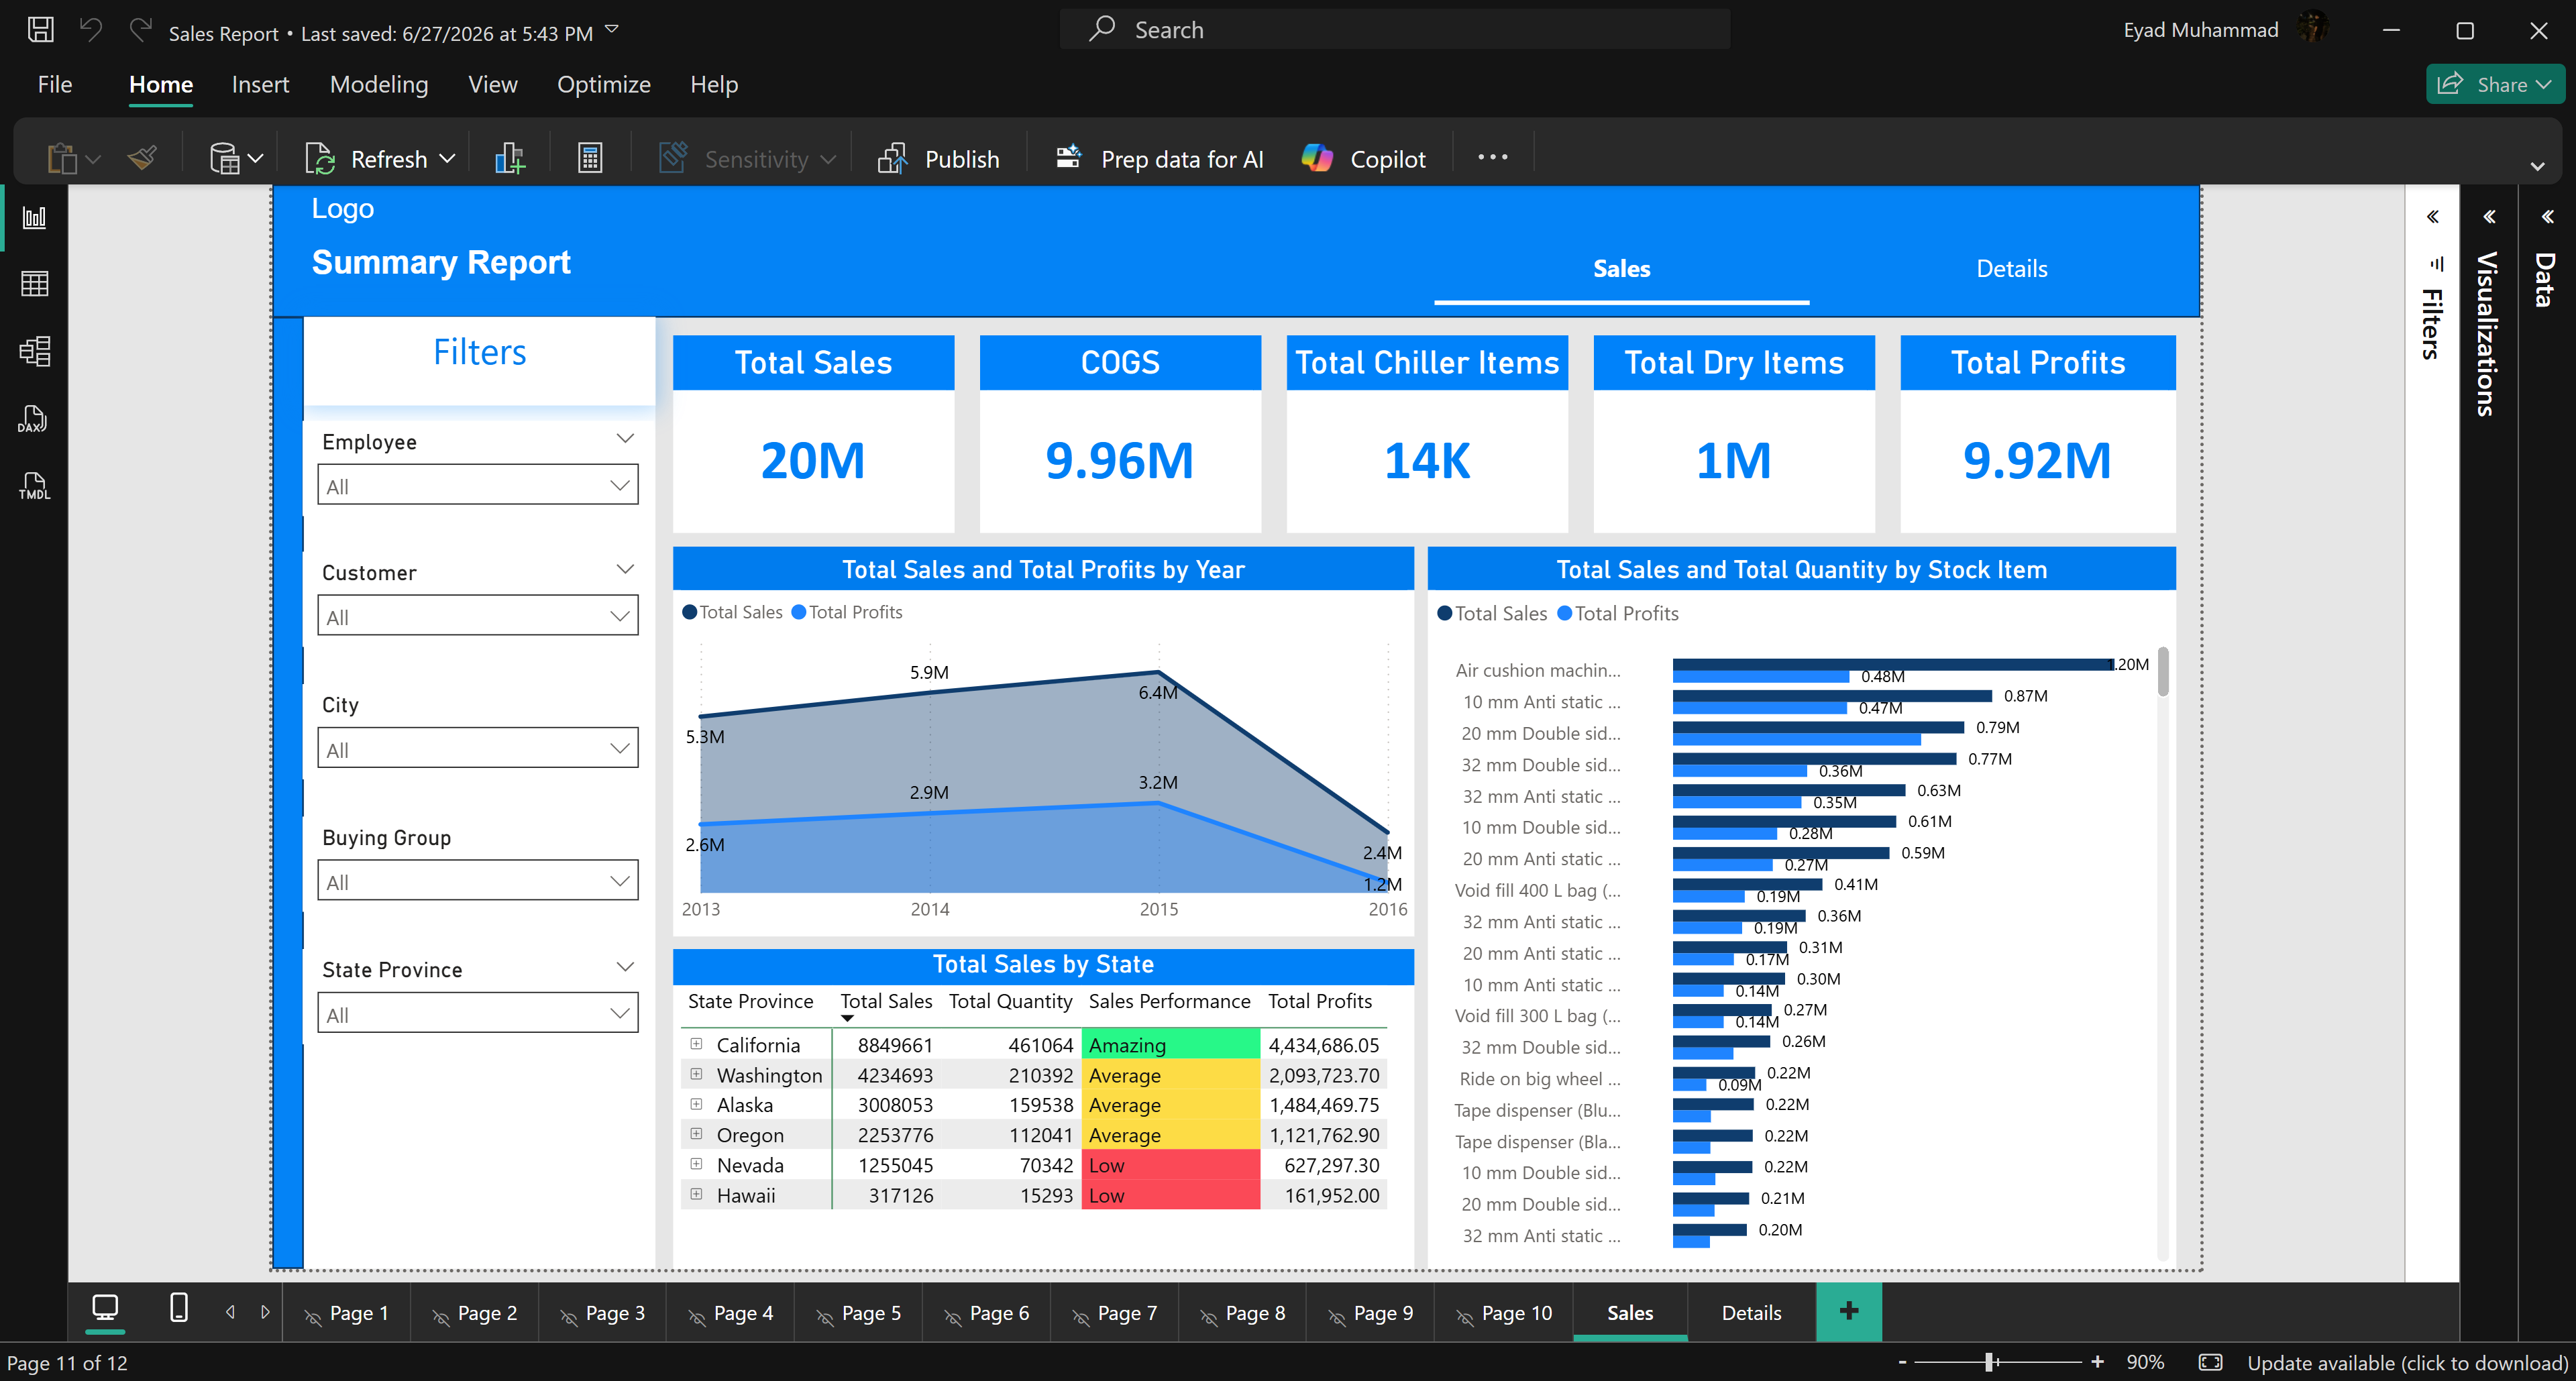

What the dashboard file says about the page in this screenshot:
{"tool":"powerbi","page":{"name":"Sales","canvas":[1280,720],"ordinal":10},"visuals":[{"type":"shape","box":[0,0,1279.8,88.3],"z":0},{"type":"shape","box":[0,88.3,20.9,631.9],"z":1000},{"type":"shape","box":[20.9,88.3,233.1,631.9],"z":2000},{"type":"textbox","box":[20.9,34.4,326.4,42.9],"z":3000},{"type":"textbox","box":[20.9,0,282.2,34.4],"z":4000},{"type":"cardVisual","title":"Total Sales","fields":{"Data":["FactSale.Total Sales"]},"box":[266.3,100.6,186.6,131.3],"z":5000},{"type":"cardVisual","title":"COGS","fields":{"Data":["Sum(FactSale.COGS)"]},"box":[469.9,100.6,186.6,131.3],"z":6000},{"type":"cardVisual","title":"Total Chiller Items","fields":{"Data":["Sum(FactSale.Total Chiller Items)"]},"box":[673.6,100.6,186.6,131.3],"z":7000},{"type":"cardVisual","title":"Total Dry Items","fields":{"Data":["Sum(FactSale.Total Dry Items)"]},"box":[877.3,100.6,186.6,131.3],"z":8000},{"type":"textbox","title":"csdc","box":[20.9,88.3,233.1,58.9],"z":9000},{"type":"areaChart","fields":{"Y":["FactSale.Total Sales","FactSale.Total Profits"],"Category":["DimDate.Date.Variation.Date Hierarchy.Year","DimDate.Date.Variation.Date Hierarchy.Quarter","DimDate.Date.Variation.Date Hierarchy.Month","DimDate.Date.Variation.Date Hierarchy.Day"]},"box":[266.3,240.5,492,258.9],"z":10000},{"type":"clusteredBarChart","title":"Total Sales and Total  Quantity by Stock Item","fields":{"Category":["DimStockItem.Stock Item"],"Y":["FactSale.Total Sales","FactSale.Total Profits"]},"box":[766.9,240.5,496.9,479.8],"z":11000},{"type":"pivotTable","title":"Total Sales by State","fields":{"Rows":["DimCity.State Province Hierarchy.State Province","DimCity.State Province Hierarchy.City"],"Values":["FactSale.Total Sales","Sum(FactSale.Quantity)","FactSale.Sales Performance","FactSale.Total Profits"]},"box":[266.3,508,492,212.3],"z":12000},{"type":"slicer","fields":{"Values":["DimEmployee.Employee"]},"box":[20.6,156.4,233.3,63.1],"z":13000},{"type":"slicer","fields":{"Values":["DimCustomer.Customer"]},"box":[20.6,244.3,233.3,63.1],"z":14000},{"type":"slicer","fields":{"Values":["DimCity.City"]},"box":[20.6,332.1,233.3,63.1],"z":15000},{"type":"slicer","fields":{"Values":["DimCustomer.Buying Group"]},"box":[20.6,419.9,233.3,63.1],"z":16000},{"type":"slicer","fields":{"Values":["DimCity.State Province"]},"box":[20.6,507.7,233.3,63.1],"z":17000},{"type":"cardVisual","title":"Total Profits","fields":{"Data":["FactSale.Total Profits"]},"box":[1081,100.6,182.8,131.3],"z":18000},{"type":"pageNavigator","box":[770.9,30.2,509.3,50],"z":19000}]}

Visuals, with their boxes on the page's 1280x720 design canvas (x1, y1, x2, y2). These are canvas units, not pixel positions in the 2576x1381 screenshot, which may show the page scaled, cropped or inside an application window:
shape: {"x1": 0, "y1": 0, "x2": 1280, "y2": 88}
shape: {"x1": 0, "y1": 88, "x2": 21, "y2": 720}
shape: {"x1": 21, "y1": 88, "x2": 254, "y2": 720}
textbox: {"x1": 21, "y1": 34, "x2": 347, "y2": 77}
textbox: {"x1": 21, "y1": 0, "x2": 303, "y2": 34}
"Total Sales" cardVisual: {"x1": 266, "y1": 101, "x2": 453, "y2": 232}
"COGS" cardVisual: {"x1": 470, "y1": 101, "x2": 656, "y2": 232}
"Total Chiller Items" cardVisual: {"x1": 674, "y1": 101, "x2": 860, "y2": 232}
"Total Dry Items" cardVisual: {"x1": 877, "y1": 101, "x2": 1064, "y2": 232}
"csdc" textbox: {"x1": 21, "y1": 88, "x2": 254, "y2": 147}
areaChart - FactSale.Total Sales x FactSale.Total Profits: {"x1": 266, "y1": 240, "x2": 758, "y2": 499}
"Total Sales and Total  Quantity by Stock Item" clusteredBarChart: {"x1": 767, "y1": 240, "x2": 1264, "y2": 720}
"Total Sales by State" pivotTable: {"x1": 266, "y1": 508, "x2": 758, "y2": 720}
slicer - DimEmployee.Employee: {"x1": 21, "y1": 156, "x2": 254, "y2": 220}
slicer - DimCustomer.Customer: {"x1": 21, "y1": 244, "x2": 254, "y2": 307}
slicer - DimCity.City: {"x1": 21, "y1": 332, "x2": 254, "y2": 395}
slicer - DimCustomer.Buying Group: {"x1": 21, "y1": 420, "x2": 254, "y2": 483}
slicer - DimCity.State Province: {"x1": 21, "y1": 508, "x2": 254, "y2": 571}
"Total Profits" cardVisual: {"x1": 1081, "y1": 101, "x2": 1264, "y2": 232}
pageNavigator: {"x1": 771, "y1": 30, "x2": 1280, "y2": 80}
